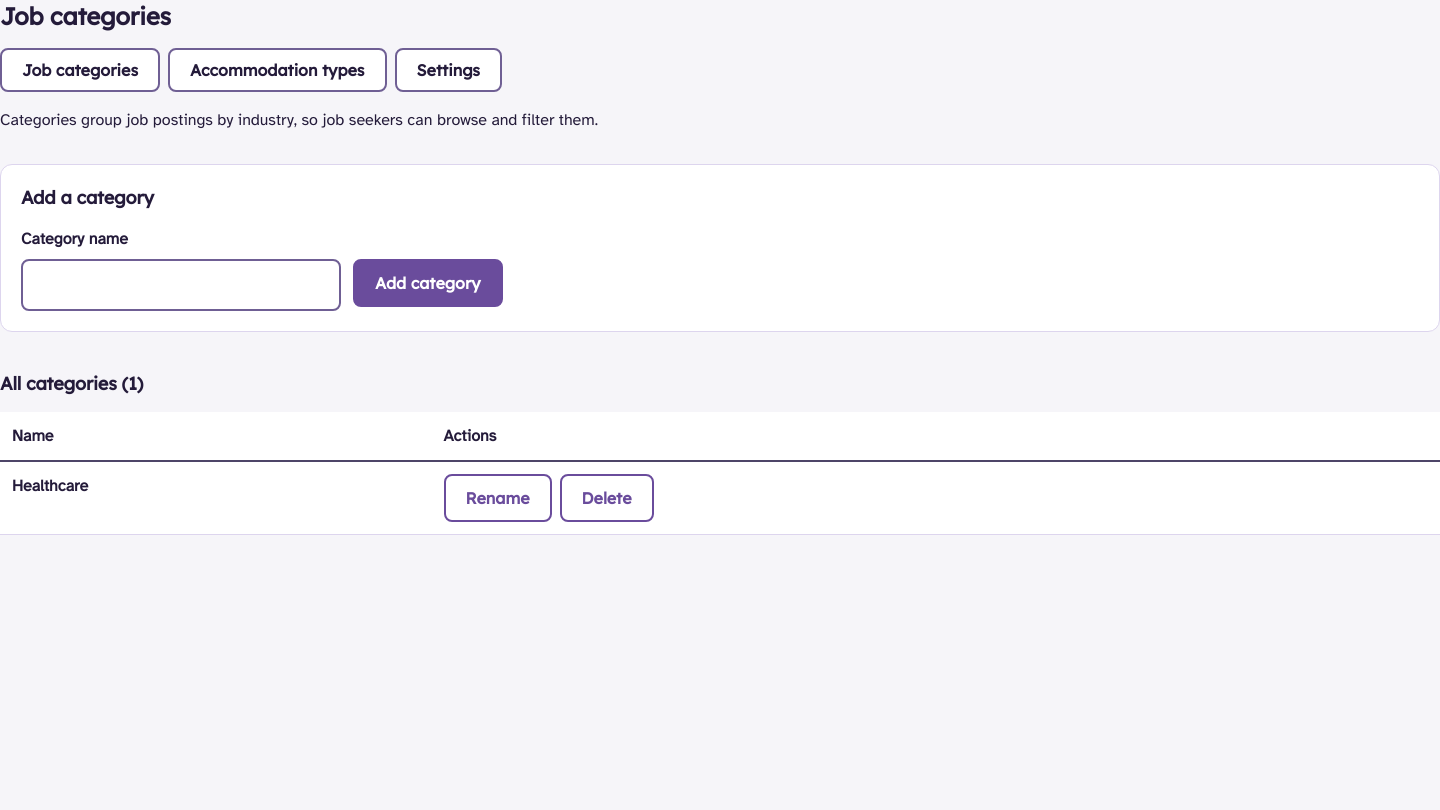
Test: CategoriesPage › keeps the delete dialog open while deleting, then explains a refusal
This screenshot has width=1440, height=810.
Click the button with aria-label "Delete Healthcare" at (606,498), box top-left (560, 474), bottom-right (654, 522)
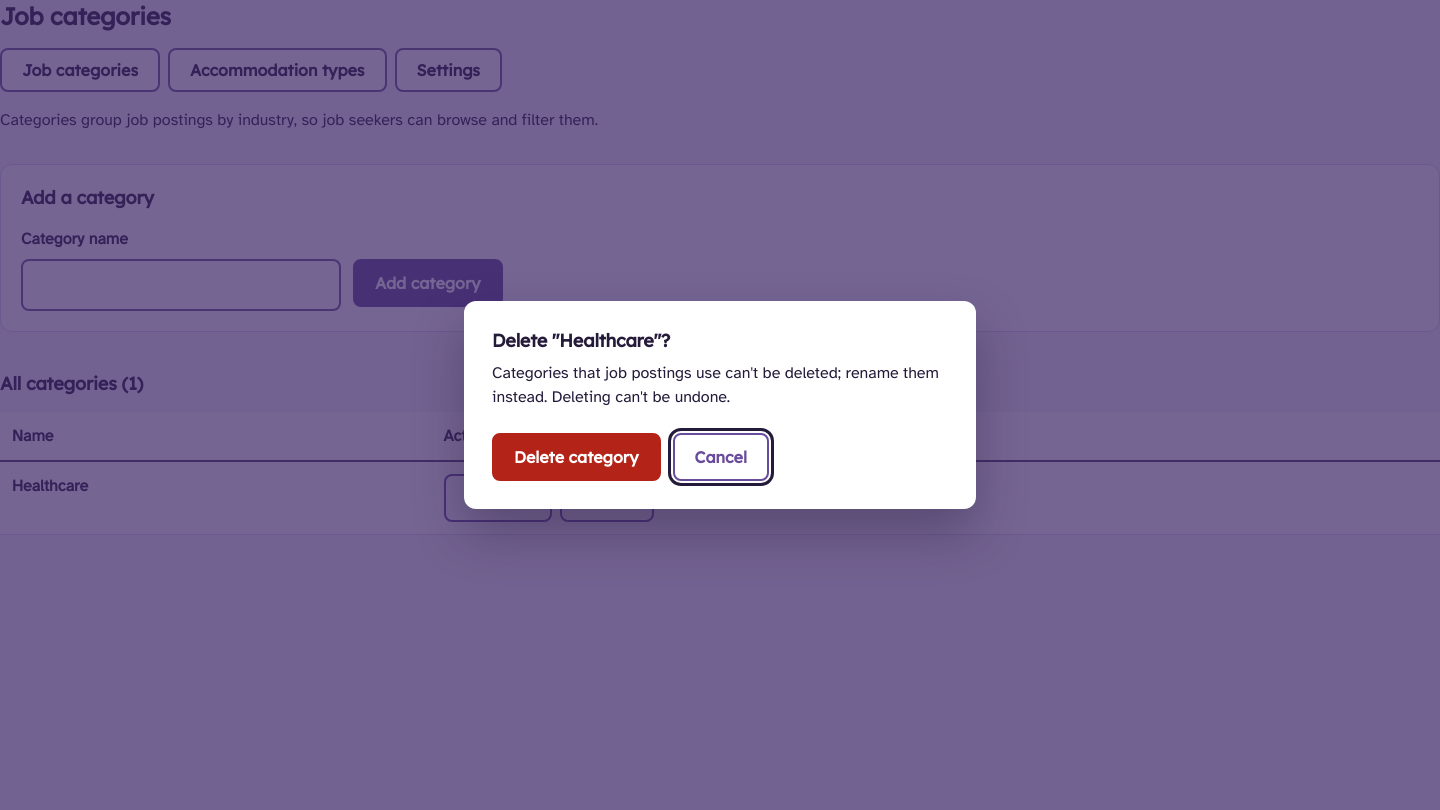
Click the button "Delete category" at (576,457), box top-left (492, 433), bottom-right (660, 481)
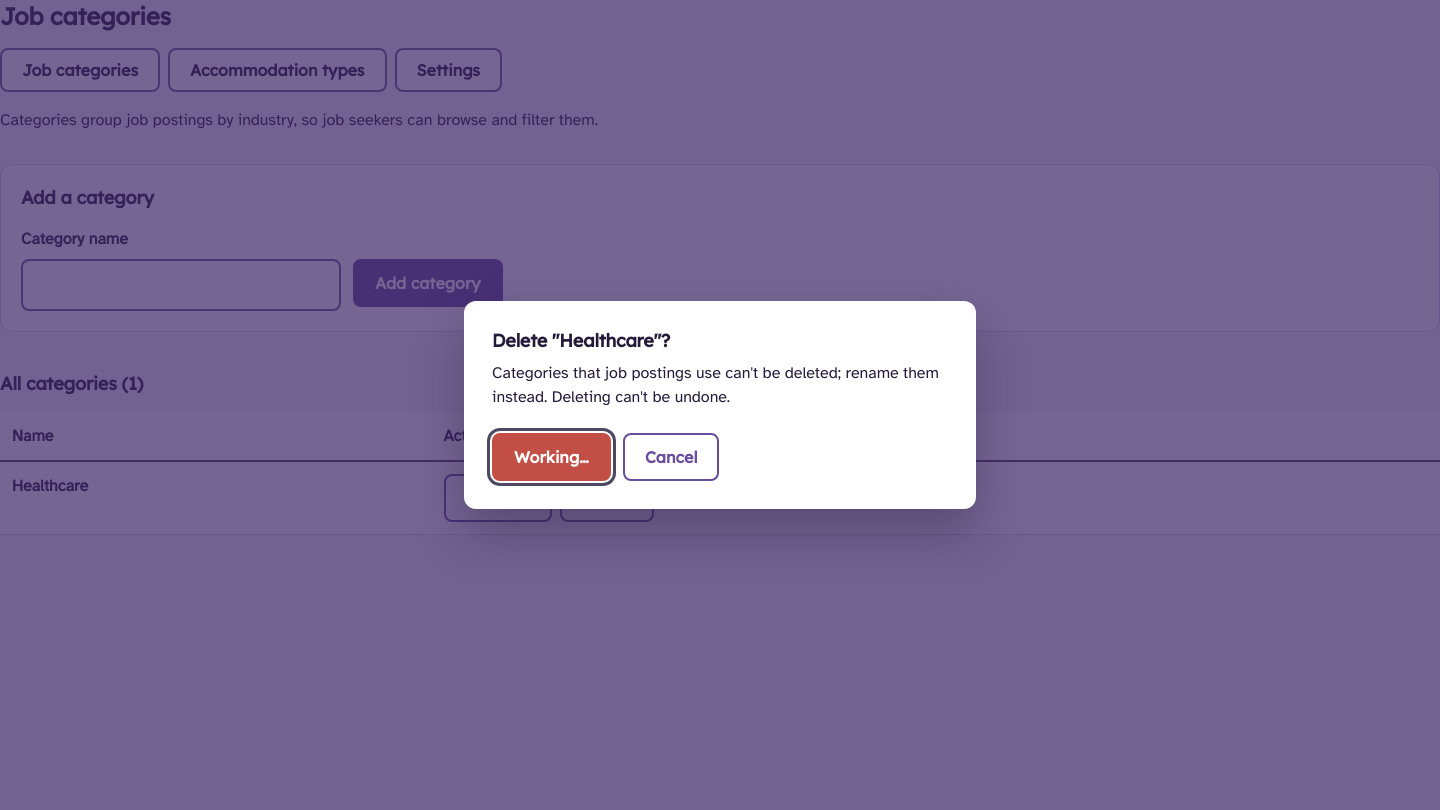
Press Escape
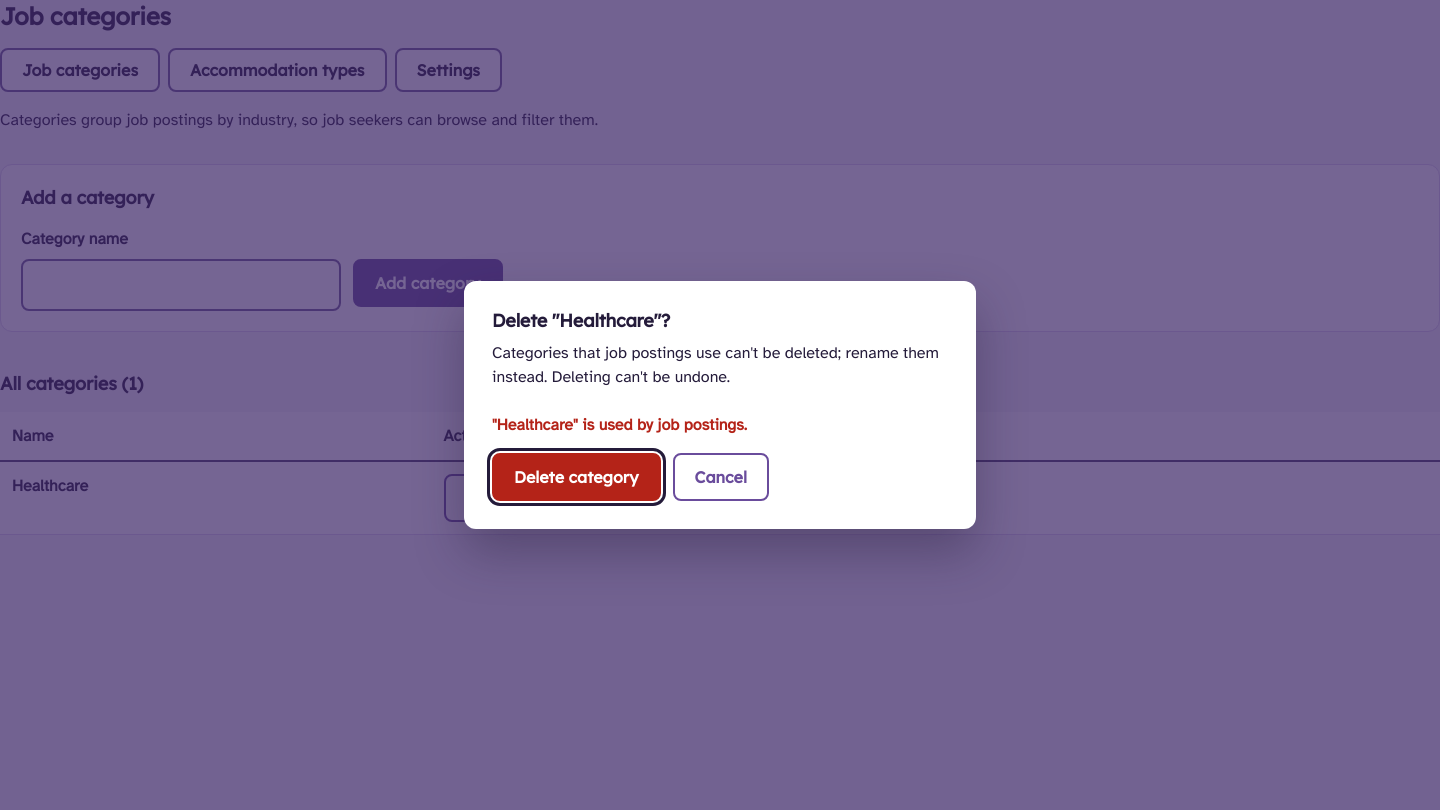
Check: the dialog "Delete \"Healthcare\"?" is shown, box top-left (464, 281), bottom-right (976, 529)
Check: the message shows "is used by job postings", box top-left (492, 415), bottom-right (747, 435)
